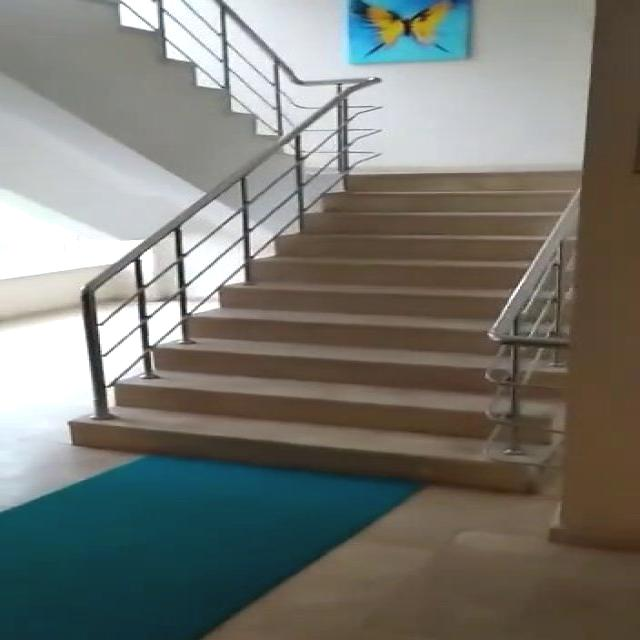stair: (85, 150, 567, 501)
